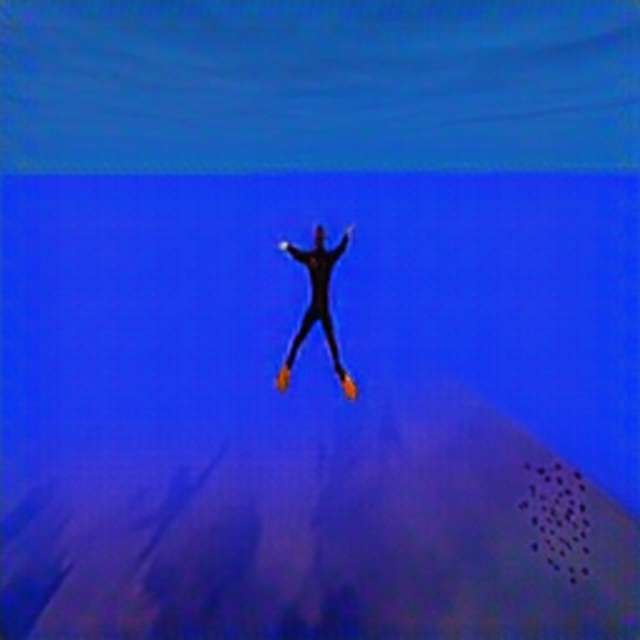diver: (273, 218, 359, 400)
